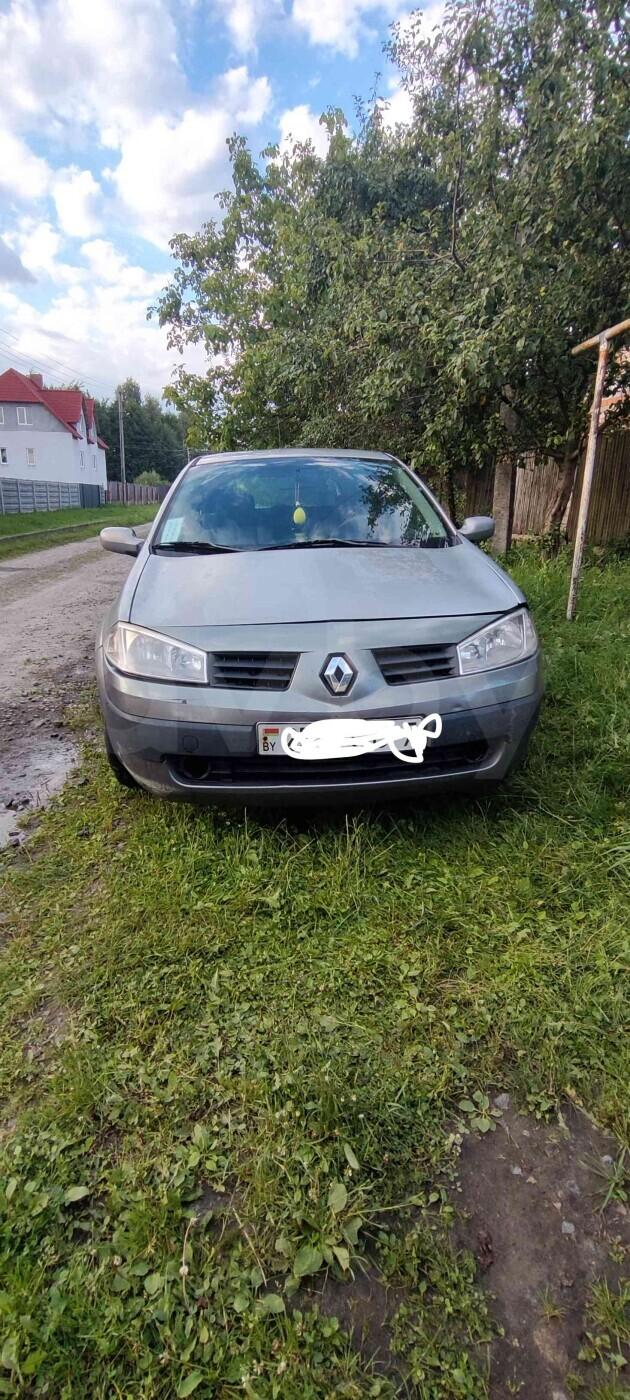Megane_2002-2006: (100, 448, 556, 816)
